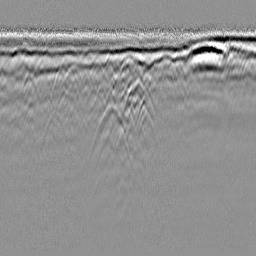cavity: (120, 76, 158, 121)
